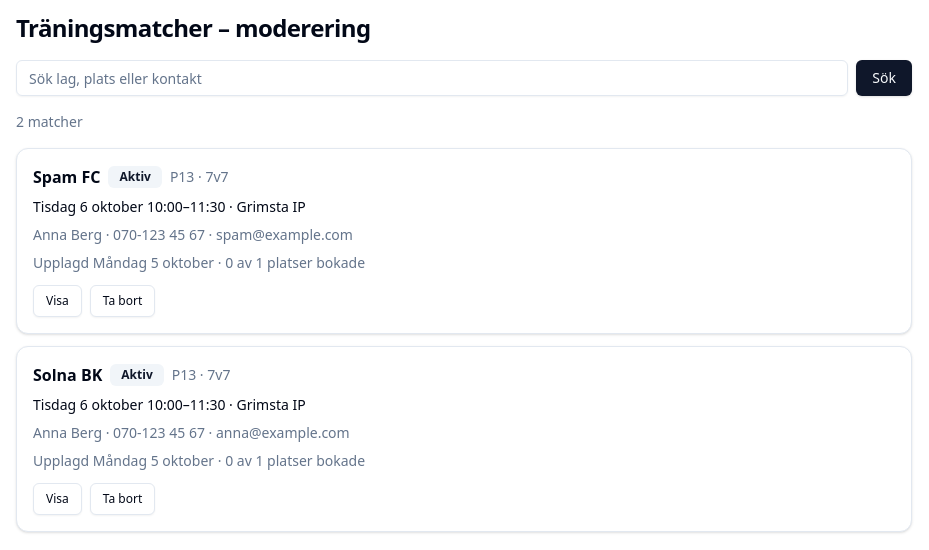
Scenario: AdminPracticeMatchesPage › lists posted matches with contact details and deletes one after confirmation
The image size is (929, 550).
Expected: the text "Spam FC" is shown, [33, 165, 100, 189]
Expected: the text "Anna Berg · 070-123 45 67 · spam@example.com" is shown, [33, 225, 353, 244]
Click the button "Ta bort" below "spam@example.com" at (123, 301), box [90, 285, 155, 317]
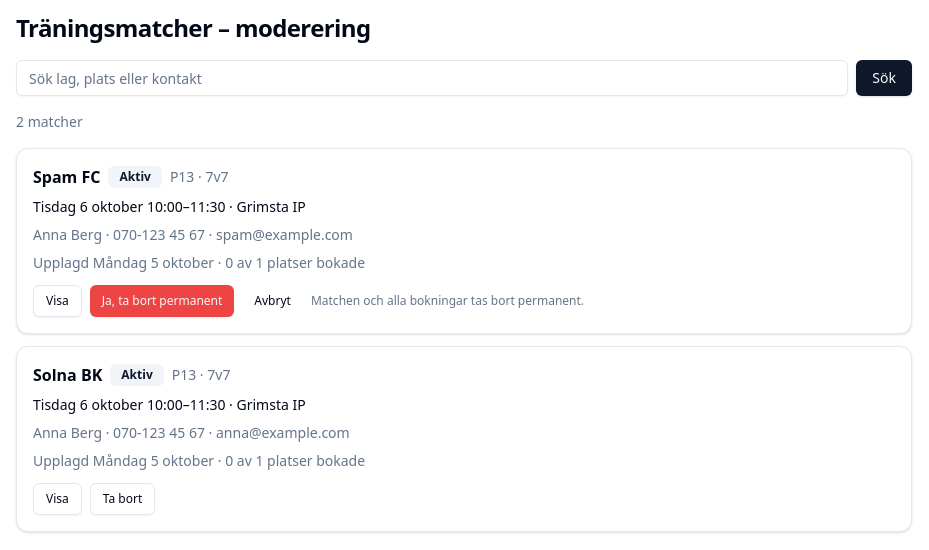
Click the button "Ja, ta bort permanent" at (162, 301), box [90, 285, 234, 317]
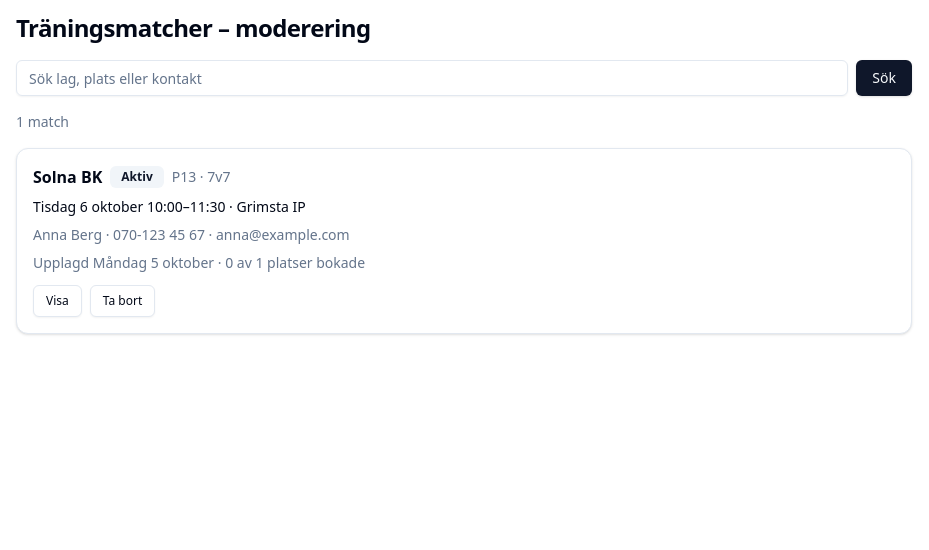
Expected: the text "1 match" is shown, [16, 112, 69, 131]
Expected: the text "Spam FC" is gone
